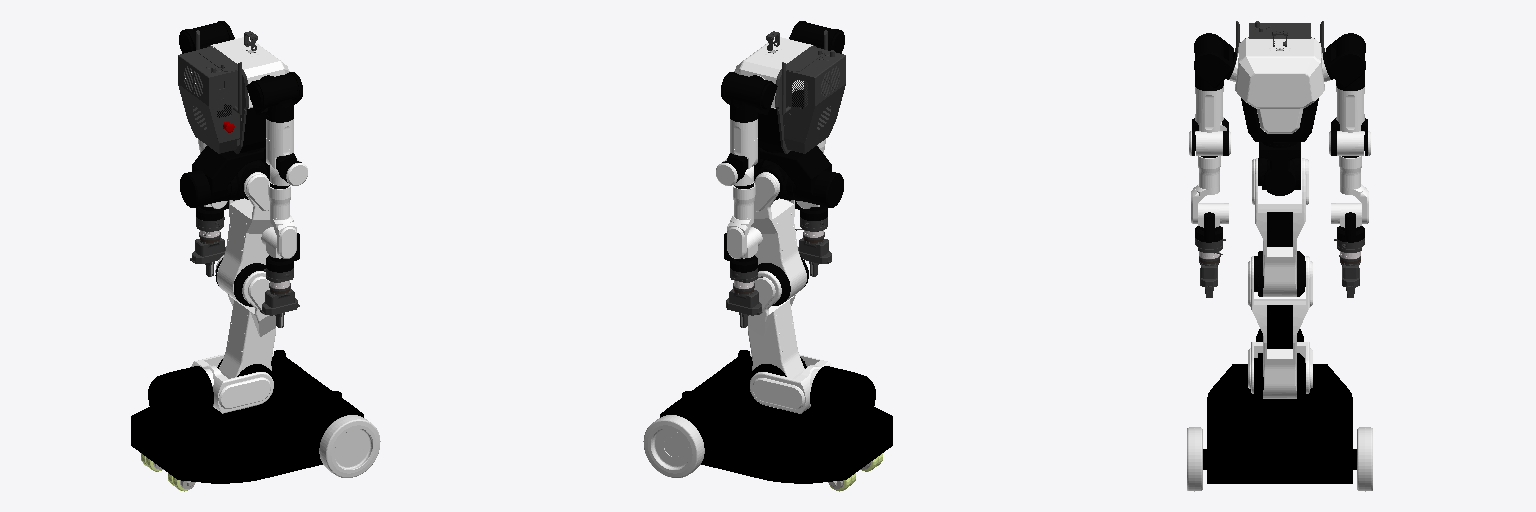
--- Render facts (derived) ---
3 views of the same robot in one strip: view 1: azimuth 30°, elevation 25°; view 2: azimuth 150°, elevation 25°; view 3: azimuth 270°, elevation 25° (orthographic).
Model RBY1_T5 with 34 links and 33 joints (21 revolute, 2 continuous, 4 prismatic, 6 fixed), rooted at base, posed every joint at zero.
Links seen in each view (by area): view 1: base, link_torso_4, link_torso_1, link_torso_0, wheel_r, link_torso_3, link_torso_base, link_right_arm_2, link_right_arm_1, link_right_arm_3, link_right_arm_5, link_right_arm_4 (+5 smaller); view 2: base, link_torso_4, link_torso_1, link_torso_0, wheel_l, link_torso_3, link_torso_base, link_left_arm_2, link_left_arm_1, link_left_arm_3, link_left_arm_5, link_left_arm_4 (+5 smaller); view 3: base, link_torso_4, link_torso_0, link_torso_1, link_torso_3, link_right_arm_2, link_left_arm_2, link_right_arm_3, link_left_arm_3, link_right_arm_0, link_left_arm_0, link_right_arm_5 (+6 smaller).
Link boxes in pixels (x1=…): base: x1=131, y1=350, x2=363, y2=491; link_torso_4: x1=178, y1=30, x2=289, y2=153; link_torso_1: x1=215, y1=172, x2=272, y2=306; link_torso_0: x1=215, y1=255, x2=275, y2=407; wheel_r: x1=319, y1=415, x2=380, y2=477; link_torso_3: x1=180, y1=146, x2=269, y2=207; link_torso_base: x1=191, y1=354, x2=273, y2=413; link_right_arm_2: x1=264, y1=119, x2=307, y2=185; link_right_arm_1: x1=260, y1=74, x2=297, y2=122; link_right_arm_3: x1=267, y1=159, x2=300, y2=218; link_right_arm_5: x1=261, y1=227, x2=299, y2=272; link_right_arm_4: x1=270, y1=215, x2=296, y2=258; base: x1=660, y1=350, x2=892, y2=491; link_torso_4: x1=734, y1=30, x2=845, y2=153; link_torso_1: x1=751, y1=172, x2=808, y2=305; link_torso_0: x1=748, y1=259, x2=806, y2=379; wheel_l: x1=643, y1=415, x2=704, y2=477; link_torso_3: x1=757, y1=146, x2=843, y2=207; link_torso_base: x1=750, y1=354, x2=831, y2=413; link_left_arm_2: x1=716, y1=119, x2=759, y2=185; link_left_arm_1: x1=726, y1=74, x2=763, y2=122; link_left_arm_3: x1=723, y1=159, x2=756, y2=218; link_left_arm_5: x1=724, y1=227, x2=762, y2=272; link_left_arm_4: x1=727, y1=215, x2=753, y2=258; base: x1=1203, y1=329, x2=1356, y2=483; link_torso_4: x1=1226, y1=21, x2=1333, y2=145; link_torso_0: x1=1248, y1=256, x2=1312, y2=398; link_torso_1: x1=1252, y1=158, x2=1308, y2=296; link_torso_3: x1=1259, y1=142, x2=1300, y2=195; link_right_arm_2: x1=1189, y1=86, x2=1230, y2=155; link_left_arm_2: x1=1329, y1=86, x2=1370, y2=155; link_right_arm_3: x1=1195, y1=131, x2=1226, y2=187; link_left_arm_3: x1=1333, y1=131, x2=1364, y2=187; link_right_arm_0: x1=1194, y1=33, x2=1233, y2=87; link_left_arm_0: x1=1326, y1=33, x2=1365, y2=87; link_right_arm_5: x1=1195, y1=203, x2=1228, y2=242.
Size in the robot's own frame: 0.6626 by 0.58 by 1.47 metres.
Meshes: 29 distinct files referenced, 33 mesh visuals loaded (28 Collada DAE); not drawn: 1 (reference not matched to a file when rendering).

The robot description file, URDF, robot "RBY1_T5":
<?xml version="1.0"?>
<robot name="RBY1_T5">
    <mobile type="differential" xyz="0.228 0 0" rpy="0 0 0" joints="right_wheel left_wheel"
            params="0.53 0.1"/> <!-- wheel_base, wheel_radius -->

    <link name="base">
        <inertial>
            <mass value="60.08042639"/>
            <origin rpy="0 0 0" xyz="-0.06157942 -0.00142271 0.13513861"/>
            <inertia ixx="1.37742174" ixy="0.02521789" ixz="0.18565467" iyy="2.99386515" iyz="-0.00641869"
                     izz="3.76085052"/>
        </inertial>

        <visual>
            <geometry>
                <mesh filename="./meshes/base.dae"/>
            </geometry>
        </visual>
    </link>

    <link name="wheel_r">
        <inertial>
            <mass value="1.37783736"/>
            <origin rpy="0 0 0" xyz="0.0 -0.00073938 0.0"/>
            <inertia ixx="0.00426657" ixy="0.0" ixz="0.0" iyy="0.00811815" iyz="0.0" izz="0.00426657"/>
        </inertial>

        <visual>
            <geometry>
                <mesh filename="./meshes/WHEEL.dae"/>
            </geometry>
        </visual>
    </link>

    <link name="wheel_l">
        <inertial>
            <mass value="1.37783736"/>
            <origin rpy="0 0 0" xyz="0.0 0.00073938 0.0"/>
            <inertia ixx="0.00426657" ixy="0.0" ixz="0.0" iyy="0.00811815" iyz="0.0" izz="0.00426657"/>
        </inertial>

        <visual>
            <geometry>
                <mesh filename="./meshes/WHEEL.dae"/>
            </geometry>
        </visual>
    </link>

    <link name="link_torso_base">
        <inertial>
            <mass value="2.24282123"/>
            <origin rpy="0 0 0" xyz="-0.08848415 0.00021367 0.00000046"/>
            <inertia ixx="0.01413496" ixy="0.00092982" ixz="-0.00000010" iyy="0.01005357"
                     iyz="-0.00000008" izz="0.01892525"/>
        </inertial>

        <visual>
            <geometry>
                <mesh filename="./meshes/LINK_1.dae"/>
            </geometry>
        </visual>

        <collision>
            <origin xyz="-0.115 0 0" rpy="0 1.5708 0"/>
            <geometry>
                <capsule radius="0.105" length="0.230" coltype="1"/>
                <!-- <capsule sp="0.0 0.0 0.0" ep="-0.230 0.0 0.0" radius="0.105" length="1"/> -->
            </geometry>
        </collision>
    </link>

    <link name="link_torso_0">
        <inertial>
            <mass value="9.72162676"/>
            <origin rpy="0 0 0" xyz="0.00728955 -0.01728522 0.06911380"/>
            <inertia ixx="0.14862640" ixy="-0.00142621" ixz="-0.00951385" iyy="0.13854733"
                     iyz="-0.00975351" izz="0.02912982"/>
        </inertial>

        <visual>
            <geometry>
                <mesh filename="./meshes/LINK_2.dae"/>
            </geometry>
        </visual>

        <collision>
            <origin xyz="0.0100 0 0.2400" rpy="0 0 0"/>
            <geometry>
                <capsule radius="0.115" length="0.220" coltype="2"/>
                <!-- <capsule sp="0.01 0.0 0.130" ep="0.01 0.0 0.350" radius="0.115"/> -->
            </geometry>
        </collision>
    </link>

    <link name="link_torso_1">
        <inertial>
            <mass value="9.21691850"/>
            <origin rpy="0 0 0" xyz="0.00653835 -0.01769536 0.05636582"/>
            <inertia ixx="0.12162270" ixy="-0.00127910" ixz="-0.00831678" iyy="0.11589190"
                     iyz="-0.00873271" izz="0.03094484"/>
        </inertial>

        <visual>
            <geometry>
                <mesh filename="./meshes/LINK_3.dae"/>
            </geometry>
        </visual>

        <collision>
            <origin xyz="0.0250 0 0.2300" rpy="0 0 0"/>
            <geometry>
                <capsule radius="0.095" length="0.1600" coltype="4"/>
                <!-- <capsule sp="0.025 0.0 0.15" ep="0.025 0.0 0.310" radius="0.095"/> -->
            </geometry>
        </collision>
    </link>

    <link name="link_torso_2">
        <inertial>
            <mass value="4.18679196"/>
            <origin rpy="0 0 0" xyz="-0.00574156 -0.01725975 0.00005610"/>
            <inertia ixx="0.00849870" ixy="0.00040861" ixz="-0.00000263" iyy="0.00929513"
                     iyz="-0.00001243" izz="0.00955442"/>
        </inertial>

        <visual>
            <geometry>
                <mesh filename="./meshes/LINK_4.dae"/>
            </geometry>
        </visual>
    </link>

    <link name="link_torso_3">
        <inertial>
            <mass value="4.45566276"/>
            <origin rpy="0 0 0" xyz="-0.09097095 0.00005085 0.02601950"/>
            <inertia ixx="0.01545991" ixy="0.00001883" ixz="-0.00780349" iyy="0.02550888" iyz="0.00000715"
                     izz="0.01952563"/>
        </inertial>

        <visual>
            <geometry>
                <mesh filename="./meshes/LINK_5.dae"/>
            </geometry>
        </visual>


        <collision>
            <origin xyz="-0.070000 0 0.038500" rpy="0 1.5708 0"/>
            <geometry>
                <capsule radius="0.105" length="0.2" coltype="8"/>
                <!-- <capsule sp="0.03 0.0 0.0385" ep="-0.170 0.0 0.0385" radius="0.105"/> -->
            </geometry>
        </collision>
    </link>

    <link name="link_torso_4">
        <inertial>
            <mass value="12.59012341"/>
            <origin rpy="0 0 0" xyz="-0.01338376 0.00025621 -0.03272487"/>
            <inertia ixx="0.21375525" ixy="0.00051520" ixz="0.00880124" iyy="0.16562090" iyz="-0.00023995"
                     izz="0.13308879"/>
        </inertial>

        <visual>
            <geometry>
                <mesh filename="./meshes/LINK_6.dae"/>
            </geometry>
        </visual>

        <collision>
            <origin xyz="0 0 0.0075" rpy="0 0 0"/>
            <geometry>
                <capsule radius="0.155" length="0.1350" coltype="16"/>
                <!-- <capsule sp="0.0 0.0 -0.06" ep="0.0 0.0 0.075" radius="0.155"/> -->
            </geometry>
        </collision>
    </link>

    <link name="link_right_arm_0">
        <inertial>
            <mass value="1.26164242"/>
            <origin rpy="0 0 0" xyz="-0.00316662 0.03437181 -0.00000030"/>
            <inertia ixx="0.00230621" ixy="0.00039024" ixz="-0.00000256" iyy="0.00426418" iyz="0.00000118"
                     izz="0.00432156"/>
        </inertial>

        <visual>
            <geometry>
                <mesh filename="./meshes/LINK_7.dae"/>
            </geometry>
        </visual>

        <collision>
            <origin xyz="-0.015 0.018 -0.008" rpy="0 1.5708 0"/>
            <geometry>
                <capsule radius="0.075" length="0.0700"/>
            </geometry>
        </collision>
    </link>

    <link name="link_right_arm_1">
        <inertial>
            <mass value="2.27287031"/>
            <origin rpy="0 0 0" xyz="-0.00307855 -0.00124741 -0.01294324"/>
            <inertia ixx="0.00388490" ixy="-0.00001477" ixz="0.00011465" iyy="0.00447034"
                     iyz="-0.00010023" izz="0.00288341"/>
        </inertial>

        <visual>
            <geometry>
                <mesh filename="./meshes/LINK_8.dae"/>
            </geometry>
        </visual>

        <collision>
            <origin xyz="0 0 -0.1000" rpy="0 0 0"/>
            <geometry>
                <capsule radius="0.05" length="0.2" coltype="32"/>
                <!-- <capsule sp="0.0 0.0 0.0" ep="0.0 0.0 -0.200" radius="0.050"/> -->
            </geometry>
        </collision>
    </link>

    <link name="link_right_arm_2">
        <inertial>
            <mass value="2.46909439"/>
            <origin rpy="0 0 0" xyz="0.00115434 -0.00196635 -0.16192524"/>
            <inertia ixx="0.00980269" ixy="0.00005871" ixz="0.00051888" iyy="0.00924560" iyz="-0.00045932"
                     izz="0.00329867"/>
        </inertial>

        <visual>
            <geometry>
                <mesh filename="./meshes/LINK_9.dae"/>
            </geometry>
        </visual>

        <collision>
            <origin xyz="0.0260 0 -0.2760" rpy="1.5708 0 0"/>
            <geometry>
                <capsule radius="0.05" length="0.080000" coltype="64"/>
                <!-- <capsule sp="0.026 -0.040 -0.276" ep="0.026 0.040 -0.276" radius="0.05"/> -->
            </geometry>
        </collision>
    </link>

    <link name="link_right_arm_3">
        <inertial>
            <mass value="2.26099493"/>
            <origin rpy="0 0 0" xyz="-0.01603135 -0.00692891 -0.04549811"/>
            <inertia ixx="0.00822606" ixy="0.00027620" ixz="-0.00156570" iyy="0.00844870" iyz="0.00076157"
                     izz="0.00236614"/>
        </inertial>

        <visual>
            <geometry>
                <mesh filename="./meshes/LINK_10.dae"/>
            </geometry>
        </visual>

        <collision>
            <origin xyz="-0.0310 0 -0.1075" rpy="0 0 0"/>
            <geometry>
                <capsule radius="0.04" length="0.1150" coltype="128" colaffinity="30"/>
                <!-- <capsule sp="-0.031 0.0 -0.05" ep="-0.031 0.0 -0.165" radius="0.04"/> -->
            </geometry>
        </collision>
    </link>

    <link name="link_right_arm_4">
        <inertial>
            <mass value="0.42508710"/>
            <origin rpy="0 0 0" xyz="-0.00000011 -0.02696036 0.06182110"/>
            <inertia ixx="0.00082466" ixy="0.0" ixz="0.0" iyy="0.00075398" iyz="-0.00025338"
                     izz="0.00039794"/>
        </inertial>

        <visual>
            <geometry>
                <mesh filename="./meshes/LINK_11.dae"/>
            </geometry>
        </visual>

        <collision>
            <origin xyz="0 -0.038 0.0175" rpy="0 0 0"/>
            <geometry>
                <capsule radius="0.035" length="0.095" coltype="256" colaffinity="30"/>
            </geometry>
        </collision>
    </link>

    <link name="link_right_arm_5">
        <inertial>
            <mass value="1.59194395"/>
            <origin rpy="0 0 0" xyz="0.00318034 -0.00532264 -0.02809655"/>
            <inertia ixx="0.00256054" ixy="-0.00002344" ixz="-0.00001563" iyy="0.00257233"
                     iyz="0.00021608" izz="0.00156092"/>
        </inertial>

        <visual>
            <geometry>
                <mesh filename="./meshes/LINK_12.dae"/>
            </geometry>
        </visual>

        <collision>
            <origin xyz="0 0 -0.1" rpy="0 0 0"/>
            <geometry>
                <capsule radius="0.075" length="0.25" coltype="512" colaffinity="31"/>
                <!-- <capsule sp="0.0 0.0 0.002" ep="0.0 0.0 -0.050" radius="0.075"/> -->
            </geometry>
        </collision>
    </link>

    <link name="link_right_arm_6">
        <inertial>
            <mass value="0.21137279"/>
            <origin rpy="0 0 0" xyz="0.00066810 -0.00031708 -0.09636043"/>
            <inertia ixx="0.00013511" ixy="-0.00000242" ixz="-0.00000102" iyy="0.00014453"
                     iyz="0.00000094" izz="0.00025431"/>
        </inertial>

        <visual>
            <geometry>
                <mesh filename="./meshes/LINK_13.dae"/>
            </geometry>
        </visual>
    </link>

    <link name="link_left_arm_0">
        <inertial>
            <mass value="1.26164242"/>
            <origin rpy="0 0 0" xyz="-0.00316662 -0.03437151 0.00000242"/>
            <inertia ixx="0.00230624" ixy="-0.00039022" ixz="0.00000269" iyy="0.00426418" iyz="0.00000108"
                     izz="0.00432159"/>
        </inertial>

        <visual>
            <geometry>
                <mesh filename="./meshes/LINK_14.dae"/>
            </geometry>
        </visual>

        <collision>
            <origin xyz="-0.015 -0.018 -0.008" rpy="0 1.5708 0"/>
            <geometry>
                <capsule radius="0.075" length="0.0700"/>
            </geometry>
        </collision>
    </link>

    <link name="link_left_arm_1">
        <inertial>
            <mass value="1.88138658"/>
            <origin rpy="0 0 0" xyz="-0.00183470 0.00040596 -0.01008733"/>
            <inertia ixx="0.00295838" ixy="-0.00001176" ixz="0.00006949" iyy="0.00355208" iyz="0.00004467"
                     izz="0.00230558"/>
        </inertial>

        <visual>
            <geometry>
                <mesh filename="./meshes/LINK_15.dae"/>
            </geometry>
        </visual>

        <collision>
            <origin xyz="0 0 -0.1000" rpy="0 0 0"/>
            <geometry>
                <capsule radius="0.050" length="0.2000" colaffinity="768"/>
            </geometry>
        </collision>
    </link>

    <link name="link_left_arm_2">
        <inertial>
            <mass value="2.35634437"/>
            <origin rpy="0 0 0" xyz="0.00066086 -0.00038583 -0.15742972"/>
            <inertia ixx="0.00842712" ixy="0.00000247" ixz="0.00036948" iyy="0.00802311" iyz="-0.00006550"
                     izz="0.00295678"/>
        </inertial>

        <visual>
            <geometry>
                <mesh filename="./meshes/LINK_16.dae"/>
            </geometry>
        </visual>

        <collision>
            <origin xyz="0.0260 0 -0.2760" rpy="1.5708 0 0"/>
            <geometry>
                <capsule radius="0.05" length="0.080000" colaffinity="768"/>
            </geometry>
        </collision>
    </link>

    <link name="link_left_arm_3">
        <inertial>
            <mass value="2.00905891"/>
            <origin rpy="0 0 0" xyz="-0.01565298 0.00793126 -0.04997943"/>
            <inertia ixx="0.00756474" ixy="-0.00026771" ixz="-0.00155419" iyy="0.00772758"
                     iyz="-0.00084364" izz="0.00199754"/>
        </inertial>

        <visual>
            <geometry>
                <mesh filename="./meshes/LINK_17.dae"/>
            </geometry>
        </visual>

        <collision>
            <origin xyz="-0.0310 0 -0.1075" rpy="0 0 0"/>
            <geometry>
                <capsule radius="0.04" length="0.1150" colaffinity="926"/>
            </geometry>
        </collision>
    </link>

    <link name="link_left_arm_4">
        <inertial>
            <mass value="0.42508710"/>
            <origin rpy="0 0 0" xyz="0.00000011 0.02696036 0.06182110"/>
            <inertia ixx="0.00082466" ixy="0.0" ixz="0.0" iyy="0.00075398" iyz="0.00025338"
                     izz="0.00039794"/>
        </inertial>

        <visual>
            <geometry>
                <mesh filename="./meshes/LINK_18.dae"/>
            </geometry>
        </visual>

        <collision>
            <origin xyz="0 0.038000 0.017500" rpy="0 0 0"/>
            <geometry>
                <capsule radius="0.035" length="0.095000" colaffinity="1022"/>
            </geometry>
        </collision>
    </link>

    <link name="link_left_arm_5">
        <inertial>
            <mass value="1.44264795"/>
            <origin rpy="0 0 0" xyz="0.00340082 0.00576824 -0.02507309"/>
            <inertia ixx="0.00233577" ixy="0.00003048" ixz="-0.00001191" iyy="0.00232580"
                     iyz="-0.00019491" izz="0.00138375"/>
        </inertial>

        <visual>
            <geometry>
                <mesh filename="./meshes/LINK_19.dae"/>
            </geometry>
        </visual>

        <collision>
            <origin xyz="0 0 -0.1" rpy="0 0 0"/>
            <geometry>
                <capsule radius="0.075" length="0.25" colaffinity="1023"/>
            </geometry>
        </collision>
    </link>

    <link name="link_left_arm_6">
        <inertial>
            <mass value="0.21137279"/>
            <origin rpy="0 0 0" xyz="-0.00066810 0.00031708 -0.09636043"/>
            <inertia ixx="0.00013511" ixy="-0.00000242" ixz="0.00000102" iyy="0.00014453"
                     iyz="-0.00000094" izz="0.00025431"/>
        </inertial>

        <visual>
            <geometry>
                <mesh filename="./meshes/LINK_20.dae"/>
            </geometry>
        </visual>
    </link>

    <link name="FT_sensor_R">
        <inertial>
            <mass value="0.49078507"/>
            <origin rpy="0 0 0" xyz="0.00010423 0.00108019 -0.01880676"/>
            <inertia ixx="0.00028587" ixy="-0.00000146" ixz="-0.00000026" iyy="0.00030459"
                     iyz="-0.00000772" izz="0.00036377"/>
        </inertial>

        <visual>
            <geometry>
                <mesh filename="./meshes/FT_SENSOR_R.dae"/>
            </geometry>
        </visual>
    </link>

    <link name="FT_sensor_L">
        <inertial>
            <mass value="0.49078507"/>
            <origin rpy="0 0 0" xyz="-0.00010423 -0.00108019 -0.01880676"/>
            <inertia ixx="0.00028587" ixy="-0.00000146" ixz="0.00000026" iyy="0.00030459" iyz="0.00000772"
                     izz="0.00036377"/>
        </inertial>

        <visual>
            <geometry>
                <mesh filename="./meshes/FT_SENSOR_L.dae"/>
            </geometry>
        </visual>
    </link>

    <link name="ee_right">
        <inertial>
            <mass value="0.46704998"/>
            <origin rpy="0 0 0" xyz="0.00212703 0.00000615 -0.04287176"/>
            <inertia ixx="0.00032067" ixy="0.00002383" ixz="-0.00000785" iyy="0.00059559"
                     iyz="-0.00000007" izz="0.00052732"/>
        </inertial>

        <visual>
            <geometry>
                <mesh filename="./meshes/EE_BODY.dae"/>
            </geometry>
        </visual>
    </link>

    <link name="ee_finger_r1">
        <inertial>
            <mass value="0.03326999"/>
            <origin rpy="0 0 0" xyz="0.00278346 -0.00000329 -0.02570112"/>
            <inertia ixx="0.00001231" ixy="0.0" ixz="-0.00000042" iyy="0.00001066" iyz="0.0"
                     izz="0.00000224"/>
        </inertial>

        <visual>
            <geometry>
                <mesh filename="./meshes/EE_FINGER.dae"/>
            </geometry>
        </visual>
    </link>

    <link name="ee_finger_r2">
        <inertial>
            <mass value="0.03326999"/>
            <origin rpy="0 0 0" xyz="0.00278346 -0.00000329 -0.02570112"/>
            <inertia ixx="0.00001231" ixy="0.0" ixz="-0.00000042" iyy="0.00001066" iyz="0.0"
                     izz="0.00000224"/>
        </inertial>

        <visual>
            <geometry>
                <mesh filename="./meshes/EE_FINGER.dae"/>
            </geometry>
        </visual>
    </link>

    <link name="ee_left">
        <inertial>
            <mass value="0.46704998"/>
            <origin rpy="0 0 0" xyz="0.00212703 0.00000615 -0.04287176"/>
            <inertia ixx="0.00032067" ixy="0.00002383" ixz="-0.00000785" iyy="0.00059559"
                     iyz="-0.00000007" izz="0.00052732"/>
        </inertial>

        <visual>
            <geometry>
                <mesh filename="./meshes/EE_BODY.dae"/>
            </geometry>
        </visual>
    </link>

    <link name="ee_finger_l1">
        <inertial>
            <mass value="0.03326999"/>
            <origin rpy="0 0 0" xyz="0.00278346 -0.00000329 -0.02570112"/>
            <inertia ixx="0.00001231" ixy="0.0" ixz="-0.00000042" iyy="0.00001066" iyz="0.0"
                     izz="0.00000224"/>
        </inertial>

        <visual>
            <geometry>
                <mesh filename="./meshes/EE_FINGER.dae"/>
            </geometry>
        </visual>
    </link>

    <link name="ee_finger_l2">
        <inertial>
            <mass value="0.03326999"/>
            <origin rpy="0 0 0" xyz="0.00278346 -0.00000329 -0.02570112"/>
            <inertia ixx="0.00001231" ixy="0.0" ixz="-0.00000042" iyy="0.00001066" iyz="0.0"
                     izz="0.00000224"/>
        </inertial>

        <visual>
            <geometry>
                <mesh filename="./meshes/EE_FINGER.dae"/>
            </geometry>
        </visual>
    </link>

    <link name="link_head_0">
        <inertial>
            <mass value="0.07582110"/>
            <origin rpy="0 0 0" xyz="-0.00800549 0.0 -0.01100308"/>
            <inertia ixx="0.00003307" ixy="0.0" ixz="-0.00000290" iyy="0.00002209" iyz="0.0"
                     izz="0.00003796"/>
        </inertial>

        <visual>
            <geometry>
                <mesh filename="./meshes/PAN_TILT_1.dae"/>
            </geometry>
        </visual>
    </link>

    <link name="link_head_1">
        <inertial>
            <mass value="0.07450580"/>
            <origin rpy="0 0 0" xyz="-0.01150679 -0.00114270 -0.00031579"/>
            <inertia ixx="0.00001850" ixy="-0.00000035" ixz="0.00000203" iyy="0.00002451"
                     iyz="-0.00000010" izz="0.00002062"/>
        </inertial>

        <visual>
            <geometry>
                <mesh filename="./meshes/PAN_TILT_2.dae"/>
            </geometry>
        </visual>
    </link>

    <link name="link_head_2">
        <inertial>
            <mass value="0.03585374"/>
            <origin rpy="0 0 0" xyz="-0.00081966 0.00099024 0.02283704"/>
            <inertia ixx="0.00002046" ixy="0.00000001" ixz="-0.00000027" iyy="0.00001044" iyz="0.00000076"
                     izz="0.00001291"/>
        </inertial>

        <visual>
            <geometry>
                <mesh filename="./meshes/PAN_TILT_3.dae"/>
            </geometry>
        </visual>
    </link>


    <!-- Joints -->
    <joint name="right_wheel" type="continuous">
        <parent link="base"/>
        <child link="wheel_r"/>
        <origin rpy="0.0 0.0 0.0" xyz="0.228 -0.265 0.1"/>
        <axis xyz="0 -1 0"/>
        <limit velocity="15.707963268" acceleration="3.141592"/>
    </joint>

    <joint name="left_wheel" type="continuous">
        <parent link="base"/>
        <child link="wheel_l"/>
        <origin rpy="0.0 0.0 0.0" xyz="0.228 0.265 0.1"/>
        <axis xyz="0 -1 0"/>
        <limit velocity="15.707963268" acceleration="3.141592"/>
    </joint>

    <joint name="torso_base" type="fixed">
        <parent link="base"/>
        <child link="link_torso_base"/>
        <origin rpy="0.0 0.0 0.0" xyz="0.0 0.0 0.2805"/>
        <axis xyz="1 0 0"/>
    </joint>

    <joint name="torso_0" type="revolute">
        <parent link="link_torso_base"/>
        <child link="link_torso_0"/>
        <origin rpy="0.0 0.0 0.0" xyz="0.0 0.0 0.0"/>
        <axis xyz="0 1 0"/>
        <!-- Nm, rad/s^2, rad/s, (min) rad, (max) rad -->
        <!-- 270Nm, 5rad/s^2, 120deg/s, -30deg, 90deg -->
        <limit effort="270.0"
               acceleration="5.0"
               velocity="2.09439510"
               lower="-0.523598776"
               upper="1.570796327"
        />
    </joint>

    <joint name="torso_1" type="revolute">
        <parent link="link_torso_0"/>
        <child link="link_torso_1"/>
        <origin rpy="0.0 0.0 0.0" xyz="0.0 0.0 0.350"/>
        <axis xyz="0 1 0"/>
        <!-- Nm, rad/s^2, rad/s, (min) rad, (max) rad -->
        <!-- 270Nm, 5rad/s^2, 120deg/s, -150deg, 90deg -->
        <limit effort="270.0"
               acceleration="5.0"
               velocity="2.09439510"
               lower="-2.617993878"
               upper="1.570796327"
        />
    </joint>

    <joint name="torso_2" type="revolute">
        <parent link="link_torso_1"/>
        <child link="link_torso_2"/>
        <origin rpy="0.0 0.0 0.0" xyz="0.0 0.0 0.350"/>
        <axis xyz="0 1 0"/>
        <!-- Nm, rad/s^2, rad/s, (min) rad, (max) rad -->
        <!-- 120Nm, 5rad/s^2, 180deg/s, -45deg, 90deg -->
        <limit effort="120.0"
               acceleration="5.0"
               velocity="3.141592654"
               lower="-0.785398163"
               upper="1.570796327"
        />
    </joint>

    <joint name="torso_3" type="revolute">
        <parent link="link_torso_2"/>
        <child link="link_torso_3"/>
        <origin rpy="0.0 0.0 0.0" xyz="0.0 0.0 0.0"/>
        <axis xyz="1 0 0"/>
        <!-- Nm, rad/s^2, rad/s, (min) rad, (max) rad -->
        <!-- 120Nm, 5rad/s^2, 180deg/s, -30deg, 30deg -->
        <limit effort="120.0"
               acceleration="5.0"
               velocity="3.141592654"
               lower="-0.523598776"
               upper="0.523598776"
        />
    </joint>

    <joint name="torso_4" type="revolute">
        <parent link="link_torso_3"/>
        <child link="link_torso_4"/>
        <origin rpy="0.0 0.0 0.0" xyz="0.0 0.0 0.309426548461"/>
        <axis xyz="0 0 1"/>
        <!-- Nm, rad/s^2, rad/s, (min) rad, (max) rad -->
        <!-- 120Nm, 5rad/s^2, 180deg/s, -135deg, 135deg -->
        <limit effort="120.0"
               acceleration="5.0"
               velocity="3.141592654"
               lower="-2.35619449"
               upper="2.35619449"
        />
    </joint>

    <joint name="right_arm_0" type="revolute">
        <parent link="link_torso_4"/>
        <child link="link_right_arm_0"/>
        <origin rpy="-0.349065850  0.0 0.0" xyz="0.0 -0.220 0.080073451539 "/>
        <axis xyz="0 1 0"/>
        <!-- Nm, rad/s^2, rad/s, (min) rad, (max) rad -->
        <!-- 70Nm, 10rad/s^2, 180deg/s, -180deg, 180deg -->
        <limit effort="70.0"
               acceleration="10.0"
               velocity="3.141592654"
               lower="-3.141592654"
               upper="3.141592654"
        />
    </joint>

    <joint name="right_arm_1" type="revolute">
        <parent link="link_right_arm_0"/>
        <child link="link_right_arm_1"/>
        <origin rpy="0.349065850 0.0 0.0" xyz="0.0 0.0 0.0"/>
        <axis xyz="1 0 0"/>
        <!-- Nm, rad/s^2, rad/s, (min) rad, (max) rad -->
        <!-- 70Nm, 10rad/s^2, 180deg/s, -180deg, 1deg -->
        <limit effort="70.0"
               acceleration="10.0"
               velocity="3.141592654"
               lower="-3.141592654"
               upper="0.017453293"
        />
    </joint>

    <joint name="right_arm_2" type="revolute">
        <parent link="link_right_arm_1"/>
        <child link="link_right_arm_2"/>
        <origin rpy="0.0 0.0 0.0" xyz="0.0 0.0 0.0"/>
        <axis xyz="0 0 1"/>
        <!-- Nm, rad/s^2, rad/s, (min) rad, (max) rad -->
        <!-- 70Nm, 10rad/s^2, 180deg/s, -180deg, 180deg -->
        <limit effort="70.0"
               acceleration="10.0"
               velocity="3.141592654"
               lower="-3.141592654"
               upper="3.141592654"
        />
    </joint>

    <joint name="right_arm_3" type="revolute">
        <parent link="link_right_arm_2"/>
        <child link="link_right_arm_3"/>
        <origin rpy="0.0 0.0 0.0" xyz="0.031 0.0 -0.276"/>
        <axis xyz="0 1 0"/>
        <!-- Nm, rad/s^2, rad/s, (min) rad, (max) rad -->
        <!-- 40Nm, 10rad/s^2, 180deg/s, -150deg, 1deg -->
        <limit effort="40.0"
               acceleration="10.0"
               velocity="3.141592654"
               lower="-2.617993878"
               upper="0.017453293"
        />
    </joint>

    <joint name="right_arm_4" type="revolute">
        <parent link="link_right_arm_3"/>
        <child link="link_right_arm_4"/>
        <origin rpy="0.0 0.0 0.0" xyz="-0.031 0.0 -0.256"/>
        <axis xyz="0 0 1"/>
        <!-- Nm, rad/s^2, rad/s, (min) rad, (max) rad -->
        <!-- 10Nm, 10rad/s^2, 360deg/s, -180deg, 180deg -->
        <limit effort="10.0"
               acceleration="10.0"
               velocity="6.283185308"
               lower="-3.141592654"
               upper="3.141592654"
        />
    </joint>

    <joint name="right_arm_5" type="revolute">
        <parent link="link_right_arm_4"/>
        <child link="link_right_arm_5"/>
        <origin rpy="0.0 0.0 0.0" xyz="0.0 0.0 0.0"/>
        <axis xyz="0 1 0"/>
        <!-- Nm, rad/s^2, rad/s, (min) rad, (max) rad -->
        <!-- 10Nm, 10rad/s^2, 360deg/s, -90deg, 110deg -->
        <limit effort="10.0"
               acceleration="10.0"
               velocity="6.283185308"
               lower="-1.570796327"
               upper="1.919862177"
        />
    </joint>

    <joint name="right_arm_6" type="revolute">
        <parent link="link_right_arm_5"/>
        <child link="link_right_arm_6"/>
        <origin rpy="0.0 0.0 0.0" xyz="0.0 0.0 0.0"/>
        <axis xyz="0 0 1"/>
        <!-- Nm, rad/s^2, rad/s, (min) rad, (max) rad -->
        <!-- 8Nm, 10rad/s^2, 120deg/s, -155deg, 155deg -->
        <limit effort="8.0"
               acceleration="10.0"
               velocity="2.094395102"
               lower="-2.705260340"
               upper="2.705260340"
        />
    </joint>

    <joint name="left_arm_0" type="revolute">
        <parent link="link_torso_4"/>
        <child link="link_left_arm_0"/>
        <origin rpy="0.349065850  0.0 0.0" xyz="0.0 0.220 0.080073452 "/>
        <axis xyz="0 1 0"/>
        <!-- Nm, rad/s^2, rad/s, (min) rad, (max) rad -->
        <!-- 70Nm, 10rad/s^2, 180deg/s, -180deg, 180deg -->
        <limit effort="70.0"
               acceleration="10.0"
               velocity="3.141592654"
               lower="-3.141592654"
               upper="3.141592654"
        />
    </joint>

    <joint name="left_arm_1" type="revolute">
        <parent link="link_left_arm_0"/>
        <child link="link_left_arm_1"/>
        <origin rpy="-0.349065850 0.0 0.0" xyz="0.0 0.0 0.0"/>
        <axis xyz="1 0 0"/>
        <!-- Nm, rad/s^2, rad/s, (min) rad, (max) rad -->
        <!-- 70Nm, 10rad/s^2, 180deg/s, -1deg, 180deg -->
        <limit effort="70.0"
               acceleration="10.0"
               velocity="3.141592654"
               lower="-0.017453293"
               upper="3.141592654"
        />
    </joint>

    <joint name="left_arm_2" type="revolute">
        <parent link="link_left_arm_1"/>
        <child link="link_left_arm_2"/>
        <origin rpy="0.0 0.0 0.0" xyz="0.0 0.0 0.0"/>
        <axis xyz="0 0 1"/>
        <!-- Nm, rad/s^2, rad/s, (min) rad, (max) rad -->
        <!-- 70Nm, 10rad/s^2, 180deg/s, -180deg, 180deg -->
        <limit effort="70.0"
               acceleration="10.0"
               velocity="3.141592654"
               lower="-3.141592654"
               upper="3.141592654"
        />
    </joint>

    <joint name="left_arm_3" type="revolute">
        <parent link="link_left_arm_2"/>
        <child link="link_left_arm_3"/>
        <origin rpy="0.0 0.0 0.0" xyz="0.031 0.0 -0.276"/>
        <axis xyz="0 1 0"/>
        <!-- Nm, rad/s^2, rad/s, (min) rad, (max) rad -->
        <!-- 40Nm, 10rad/s^2, 180deg/s, -150deg, 1deg -->
        <limit effort="40.0"
               acceleration="10.0"
               velocity="3.141592654"
               lower="-2.617993878"
               upper="0.017453293"
        />
    </joint>

    <joint name="left_arm_4" type="revolute">
        <parent link="link_left_arm_3"/>
        <child link="link_left_arm_4"/>
        <origin rpy="0.0 0.0 0.0" xyz="-0.031 0.0 -0.256"/>
        <axis xyz="0 0 1"/>
        <!-- Nm, rad/s^2, rad/s, (min) rad, (max) rad -->
        <!-- 10Nm, 10rad/s^2, 360deg/s, -180deg, 180deg -->
        <limit effort="10.0"
               acceleration="10.0"
               velocity="6.283185308"
               lower="-3.141592654"
               upper="3.141592654"
        />
    </joint>

    <joint name="left_arm_5" type="revolute">
        <parent link="link_left_arm_4"/>
        <child link="link_left_arm_5"/>
        <origin rpy="0.0 0.0 0.0" xyz="0.0 0.0 0.0"/>
        <axis xyz="0 1 0"/>
        <!-- Nm, rad/s^2, rad/s, (min) rad, (max) rad -->
        <!-- 10Nm, 10rad/s^2, 360deg/s, -90deg, 110deg -->
        <limit effort="10.0"
               acceleration="10.0"
               velocity="6.283185308"
               lower="-1.570796327"
               upper="1.919862177"
        />
    </joint>

    <joint name="left_arm_6" type="revolute">
        <parent link="link_left_arm_5"/>
        <child link="link_left_arm_6"/>
        <origin rpy="0.0 0.0 0.0" xyz="0.0 0.0 0.0"/>
        <axis xyz="0 0 1"/>
        <!-- Nm, rad/s^2, rad/s, (min) rad, (max) rad -->
        <!-- 8Nm, 10rad/s^2, 120deg/s, -155deg, 155deg -->
        <limit effort="8.0"
               acceleration="10.0"
               velocity="2.094395102"
               lower="-2.705260340"
               upper="2.705260340"
        />
    </joint>

    <joint name="tool_right" type="fixed">
        <parent link="link_right_arm_6"/>
        <child link="FT_sensor_R"/>
        <origin rpy="0.0 0.0 0.0" xyz="0.0 0.0 -0.1087"/>
        <axis xyz="0 0 1"/>
    </joint>

    <joint name="FT_Sensor_END_right" type="fixed">
        <parent link="FT_sensor_R"/>
        <child link="ee_right"/>
        <origin rpy="0.0 0.0 0.0" xyz="0.0 0.0 -0.0461"/>
        <axis xyz="0 0 1"/>
    </joint>

    <joint name="gripper_finger_r1" type="prismatic" in_model_type="fixed">
        <parent link="ee_right"/>
        <child link="ee_finger_r1"/>
        <origin rpy="0.0 0.0 0.0" xyz="0.003 0.0 -0.073"/>
        <axis xyz="-1 0 0"/>
        <limit effort="1000" velocity="0.05" lower="-0.05" upper="0"/>
    </joint>

    <joint name="gripper_finger_r2" type="prismatic" in_model_type="fixed">
        <parent link="ee_right"/>
        <child link="ee_finger_r2"/>
        <origin rpy="0.0 0.0 3.1415926535" xyz="-0.003 0.0 -0.073"/>
        <axis xyz="1 0 0"/>
        <limit effort="1000" velocity="0.05" lower="0" upper="0.05"/>
    </joint>

    <joint name="tool_left" type="fixed">
        <parent link="link_left_arm_6"/>
        <child link="FT_sensor_L"/>
        <origin rpy="0.0 0.0 0" xyz="0.0 0.0 -0.1087"/>
        <axis xyz="0 0 1"/>
    </joint>

    <joint name="FT_Sensor_END_left" type="fixed">
        <parent link="FT_sensor_L"/>
        <child link="ee_left"/>
        <origin rpy="0.0 0.0 0.0" xyz="0.0 0.0 -0.0461"/>
        <axis xyz="0 0 1"/>
    </joint>

    <joint name="gripper_finger_l1" type="prismatic" in_model_type="fixed">
        <parent link="ee_left"/>
        <child link="ee_finger_l1"/>
        <origin rpy="0.0 0.0 0.0" xyz="0.003 0.0 -0.073"/>
        <axis xyz="-1 0 0"/>
        <limit effort="1000" velocity="0.05" lower="-0.05" upper="0"/>
    </joint>

    <joint name="gripper_finger_l2" type="prismatic" in_model_type="fixed">
        <parent link="ee_left"/>
        <child link="ee_finger_l2"/>
        <origin rpy="0.0 0.0 3.1415926535" xyz="-0.003 0.0 -0.073"/>
        <axis xyz="1 0 0"/>
        <limit effort="1000" velocity="0.05" lower="0" upper="0.05"/>
    </joint>

    <joint name="head_base" type="fixed">
        <parent link="link_torso_4"/>
        <child link="link_head_0"/>
        <origin rpy="0.0 0.0 0.0" xyz="0.022 0.0 0.120073451525"/>
        <axis xyz="0 0 1"/>
    </joint>

    <joint name="head_0" type="revolute">
        <parent link="link_head_0"/>
        <child link="link_head_1"/>
        <origin rpy="0.0 0.0 0.0" xyz="0.0 0.0 0.02"/>
        <axis xyz="0 0 1"/>
        <limit effort="1000" velocity="3.14" lower="-0.523" upper="0.523"/>
    </joint>

    <joint name="head_1" type="revolute">
        <parent link="link_head_1"/>
        <child link="link_head_2"/>
        <origin rpy="0.0 0.0 0.0" xyz="0.0 0.0 0.0"/>
        <axis xyz="0 1 0"/>
        <limit effort="1000" velocity="3.14" lower="-0.35" upper="1.57"/>
    </joint>

    <!-- <joint name="head_mount" type="fixed">
      <parent link="link_head_2"/>
      <child link="Arbitrary device"/>
      <origin rpy="0.0 0.0 0.0" xyz="0.022 0.0 0.04"/>
      <axis xyz="0 0 1"/>
    </joint> -->

</robot>
